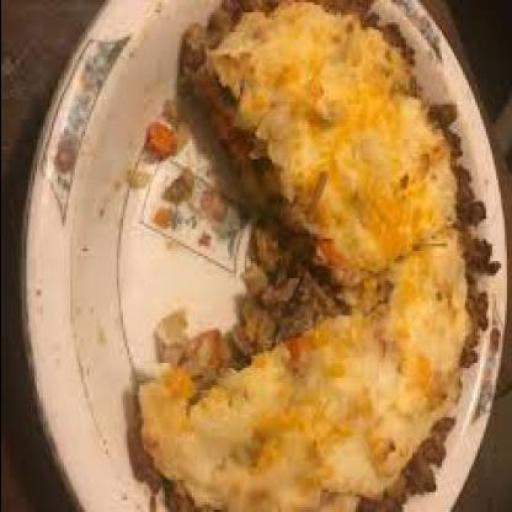biodegradable: (128, 222, 502, 510), (180, 0, 484, 283), (145, 120, 180, 156), (166, 164, 195, 206), (151, 201, 176, 226), (125, 164, 149, 186)
